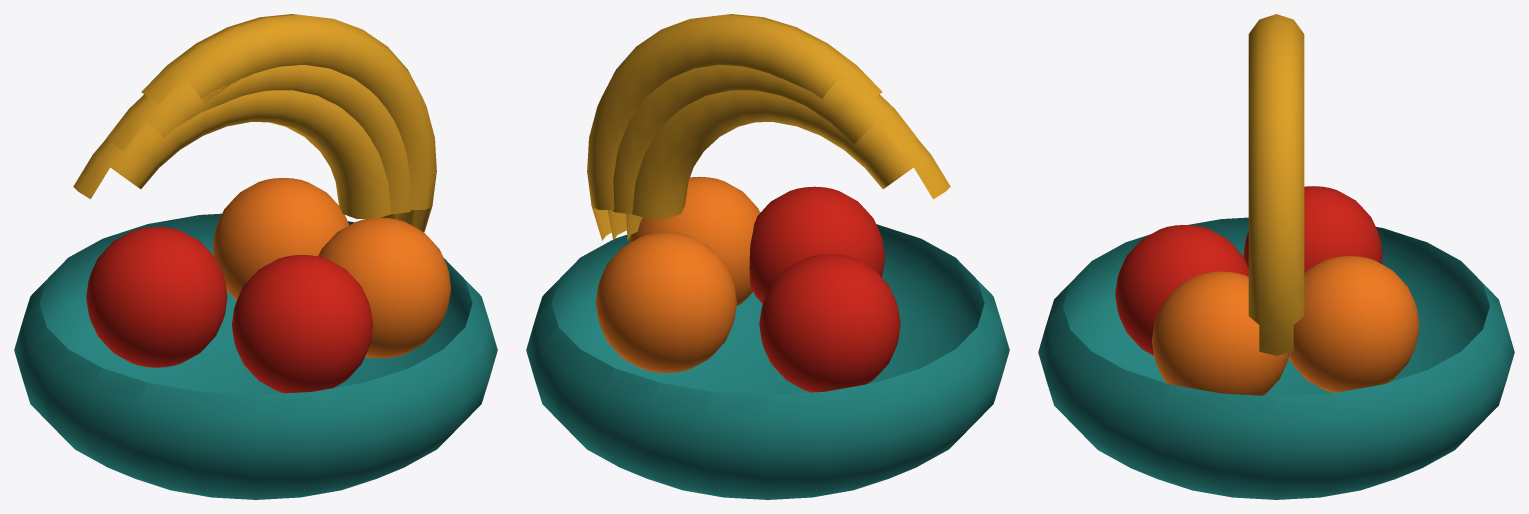
Rendered from fruit_bowl.glb.
3 views of the same model, side by side, from view 1: azimuth 30°, elevation 25°; view 2: azimuth 150°, elevation 25°; view 3: azimuth 270°, elevation 25° (orthographic).
Parts seen in each view (by area): view 1: fruit_bowl; view 2: fruit_bowl; view 3: fruit_bowl.
Boxes of the visible parts, <box> form: fruit_bowl: <box>14,14,497,499</box>; fruit_bowl: <box>526,14,1009,499</box>; fruit_bowl: <box>1038,14,1514,499</box>.
Size of the model in its own units: 0.26 by 0.2599 by 0.26.
